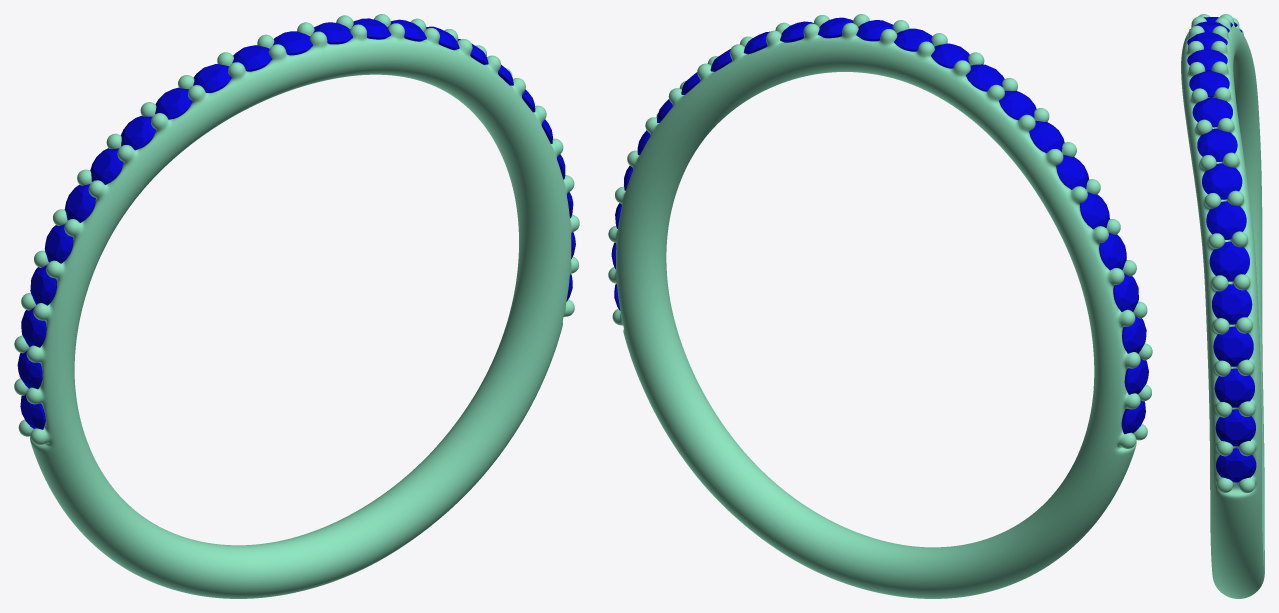
The picture shows the model from 3 angles, left to right: view 1: azimuth 30°, elevation 25°; view 2: azimuth 150°, elevation 25°; view 3: azimuth 270°, elevation 25°; orthographic projection. The views are drawn at different scales.
Visible parts, largest first — view 1: Metal03, Diamond_Band.017, Diamond_Band.016, Diamond_Band.018, Diamond_Band.015, Diamond_Band.019, Diamond_Band.014, Diamond_Band.020, Diamond_Band.013, Diamond_Band.021; view 2: Metal03, Diamond_Band.017, Diamond_Band.018, Diamond_Band.016, Diamond_Band.019, Diamond_Band.015, Diamond_Band.014, Diamond_Band.020; view 3: Metal03, Diamond_Band.004, Diamond_Band.003, Diamond_Band.005, Diamond_Band.002, Diamond_Band.006, Diamond_Band.001, Diamond_Band.007, Diamond_Band, Diamond_Band.008, Diamond_Band.009, Diamond_Band.010 (+3 smaller).
Part boxes in pixels (left/top/right/bottom): Metal03: left=14, top=14, right=579, bottom=598; Diamond_Band.017: left=90, top=148, right=123, bottom=184; Diamond_Band.016: left=121, top=115, right=155, bottom=150; Diamond_Band.018: left=64, top=184, right=95, bottom=222; Diamond_Band.015: left=155, top=87, right=192, bottom=119; Diamond_Band.019: left=44, top=224, right=73, bottom=263; Diamond_Band.014: left=193, top=64, right=231, bottom=92; Diamond_Band.020: left=30, top=265, right=56, bottom=305; Diamond_Band.013: left=232, top=45, right=272, bottom=71; Diamond_Band.021: left=21, top=307, right=46, bottom=347; Metal03: left=608, top=14, right=1152, bottom=598; Diamond_Band.017: left=1056, top=154, right=1088, bottom=189; Diamond_Band.018: left=1080, top=192, right=1109, bottom=229; Diamond_Band.016: left=1029, top=120, right=1064, bottom=153; Diamond_Band.019: left=1099, top=232, right=1126, bottom=270; Diamond_Band.015: left=999, top=90, right=1036, bottom=120; Diamond_Band.014: left=966, top=64, right=1004, bottom=91; Diamond_Band.020: left=1113, top=273, right=1138, bottom=311; Metal03: left=1181, top=14, right=1264, bottom=598; Diamond_Band.004: left=1212, top=284, right=1252, bottom=324; Diamond_Band.003: left=1213, top=326, right=1253, bottom=366; Diamond_Band.005: left=1209, top=241, right=1249, bottom=281; Diamond_Band.002: left=1214, top=368, right=1254, bottom=407; Diamond_Band.006: left=1206, top=201, right=1246, bottom=239; Diamond_Band.001: left=1215, top=409, right=1255, bottom=446; Diamond_Band.007: left=1202, top=163, right=1242, bottom=199; Diamond_Band: left=1216, top=448, right=1256, bottom=482; Diamond_Band.008: left=1197, top=128, right=1237, bottom=161; Diamond_Band.009: left=1192, top=97, right=1232, bottom=127; Diamond_Band.010: left=1189, top=71, right=1229, bottom=97.
Bounding box in the file's own units: 21.09 × 21 × 3.02.
